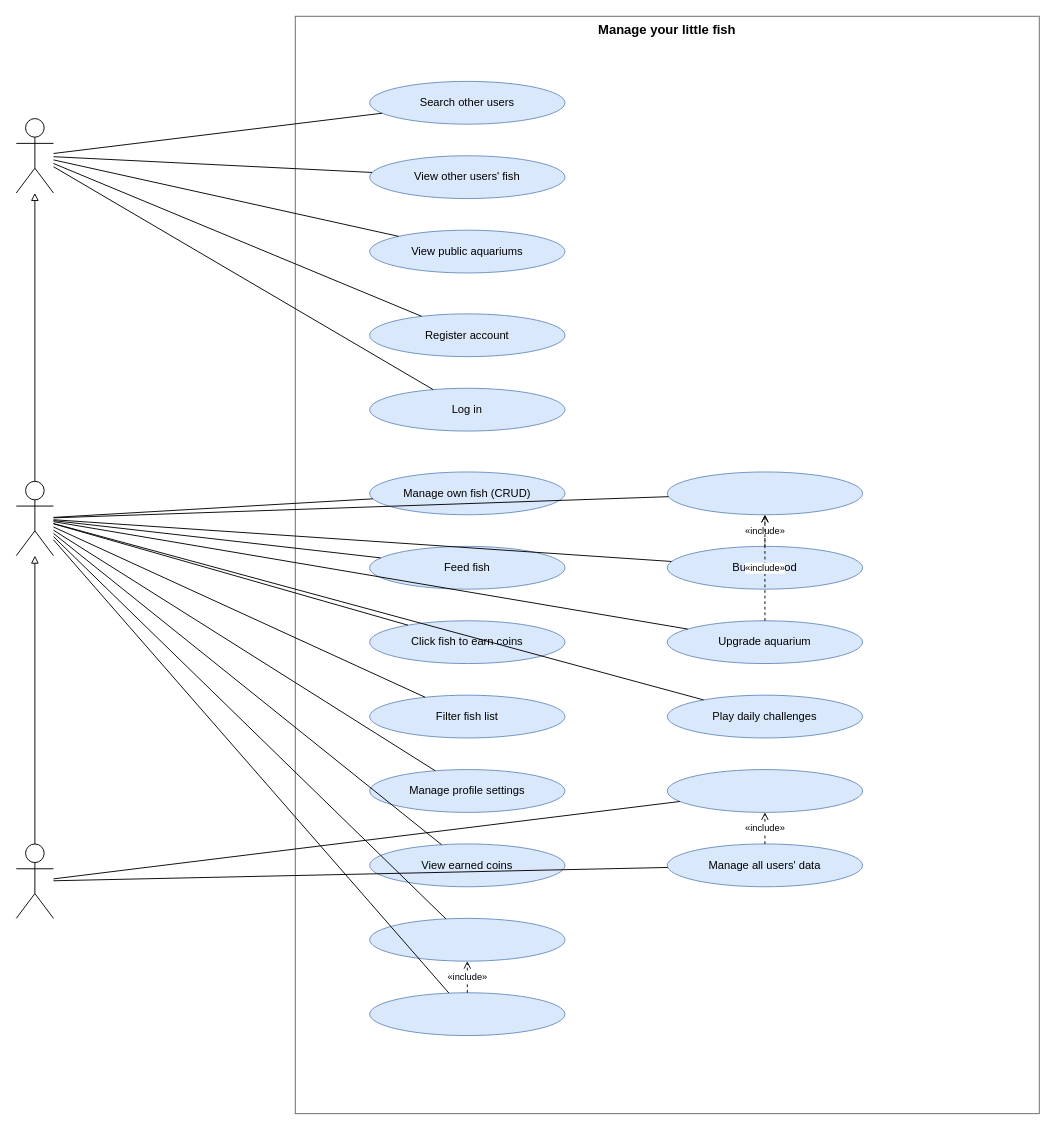
This 1056x1130 diagram has some shape labels left out. The shapes that lost their labels are listed below. From the top down, each one's centre as x and y in pixels, then its label:
At point 34,155: "Visitor".
At point 764,493: "Access shop".
At point 34,518: "User".
At point 764,790: "Access admin panel".
At point 34,880: "Admin".
At point 467,939: "Manage friends".
At point 467,1014: "Trade fish with friends".
